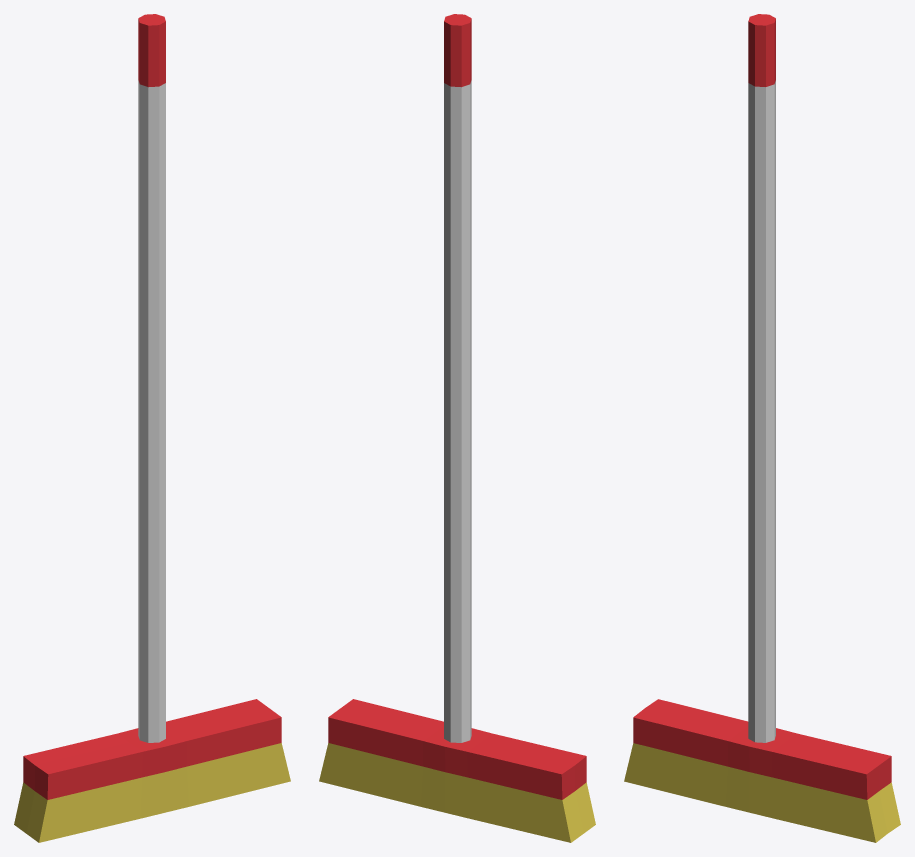
Rendered from Broom.fbx.
The picture shows the model from 3 angles, left to right: view 1: azimuth 30°, elevation 25°; view 2: azimuth 150°, elevation 25°; view 3: azimuth 330°, elevation 25°; orthographic projection.
Parts seen in each view (by area): view 1: Broom; view 2: Broom; view 3: Broom.
Boxes of the visible parts, bbox=[...] form: Broom: bbox=[14, 14, 290, 842]; Broom: bbox=[319, 14, 595, 842]; Broom: bbox=[624, 14, 900, 842].
Bounding box in the file's own units: 0.4072 × 0.0722 × 1.21.
